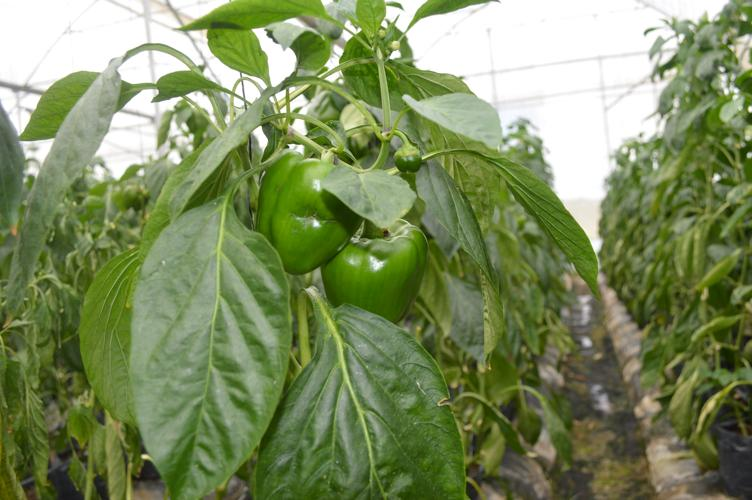BellPepper: (258, 151, 355, 272), (329, 220, 426, 319)
